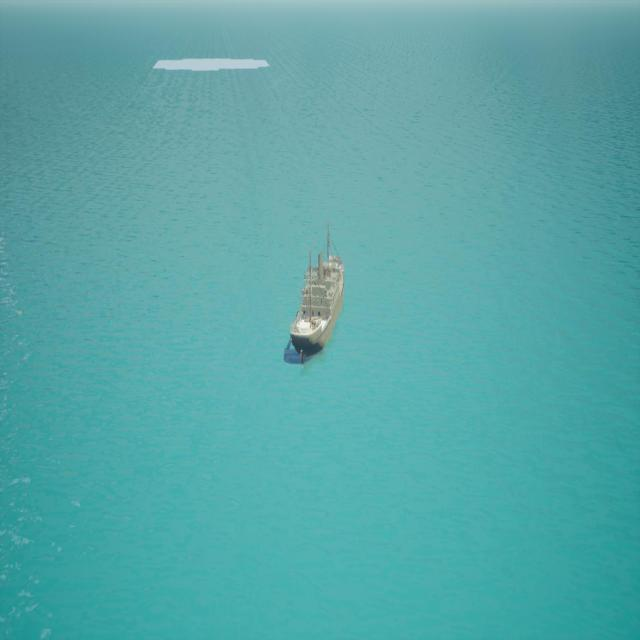fishing ship: (289, 221, 345, 365)
